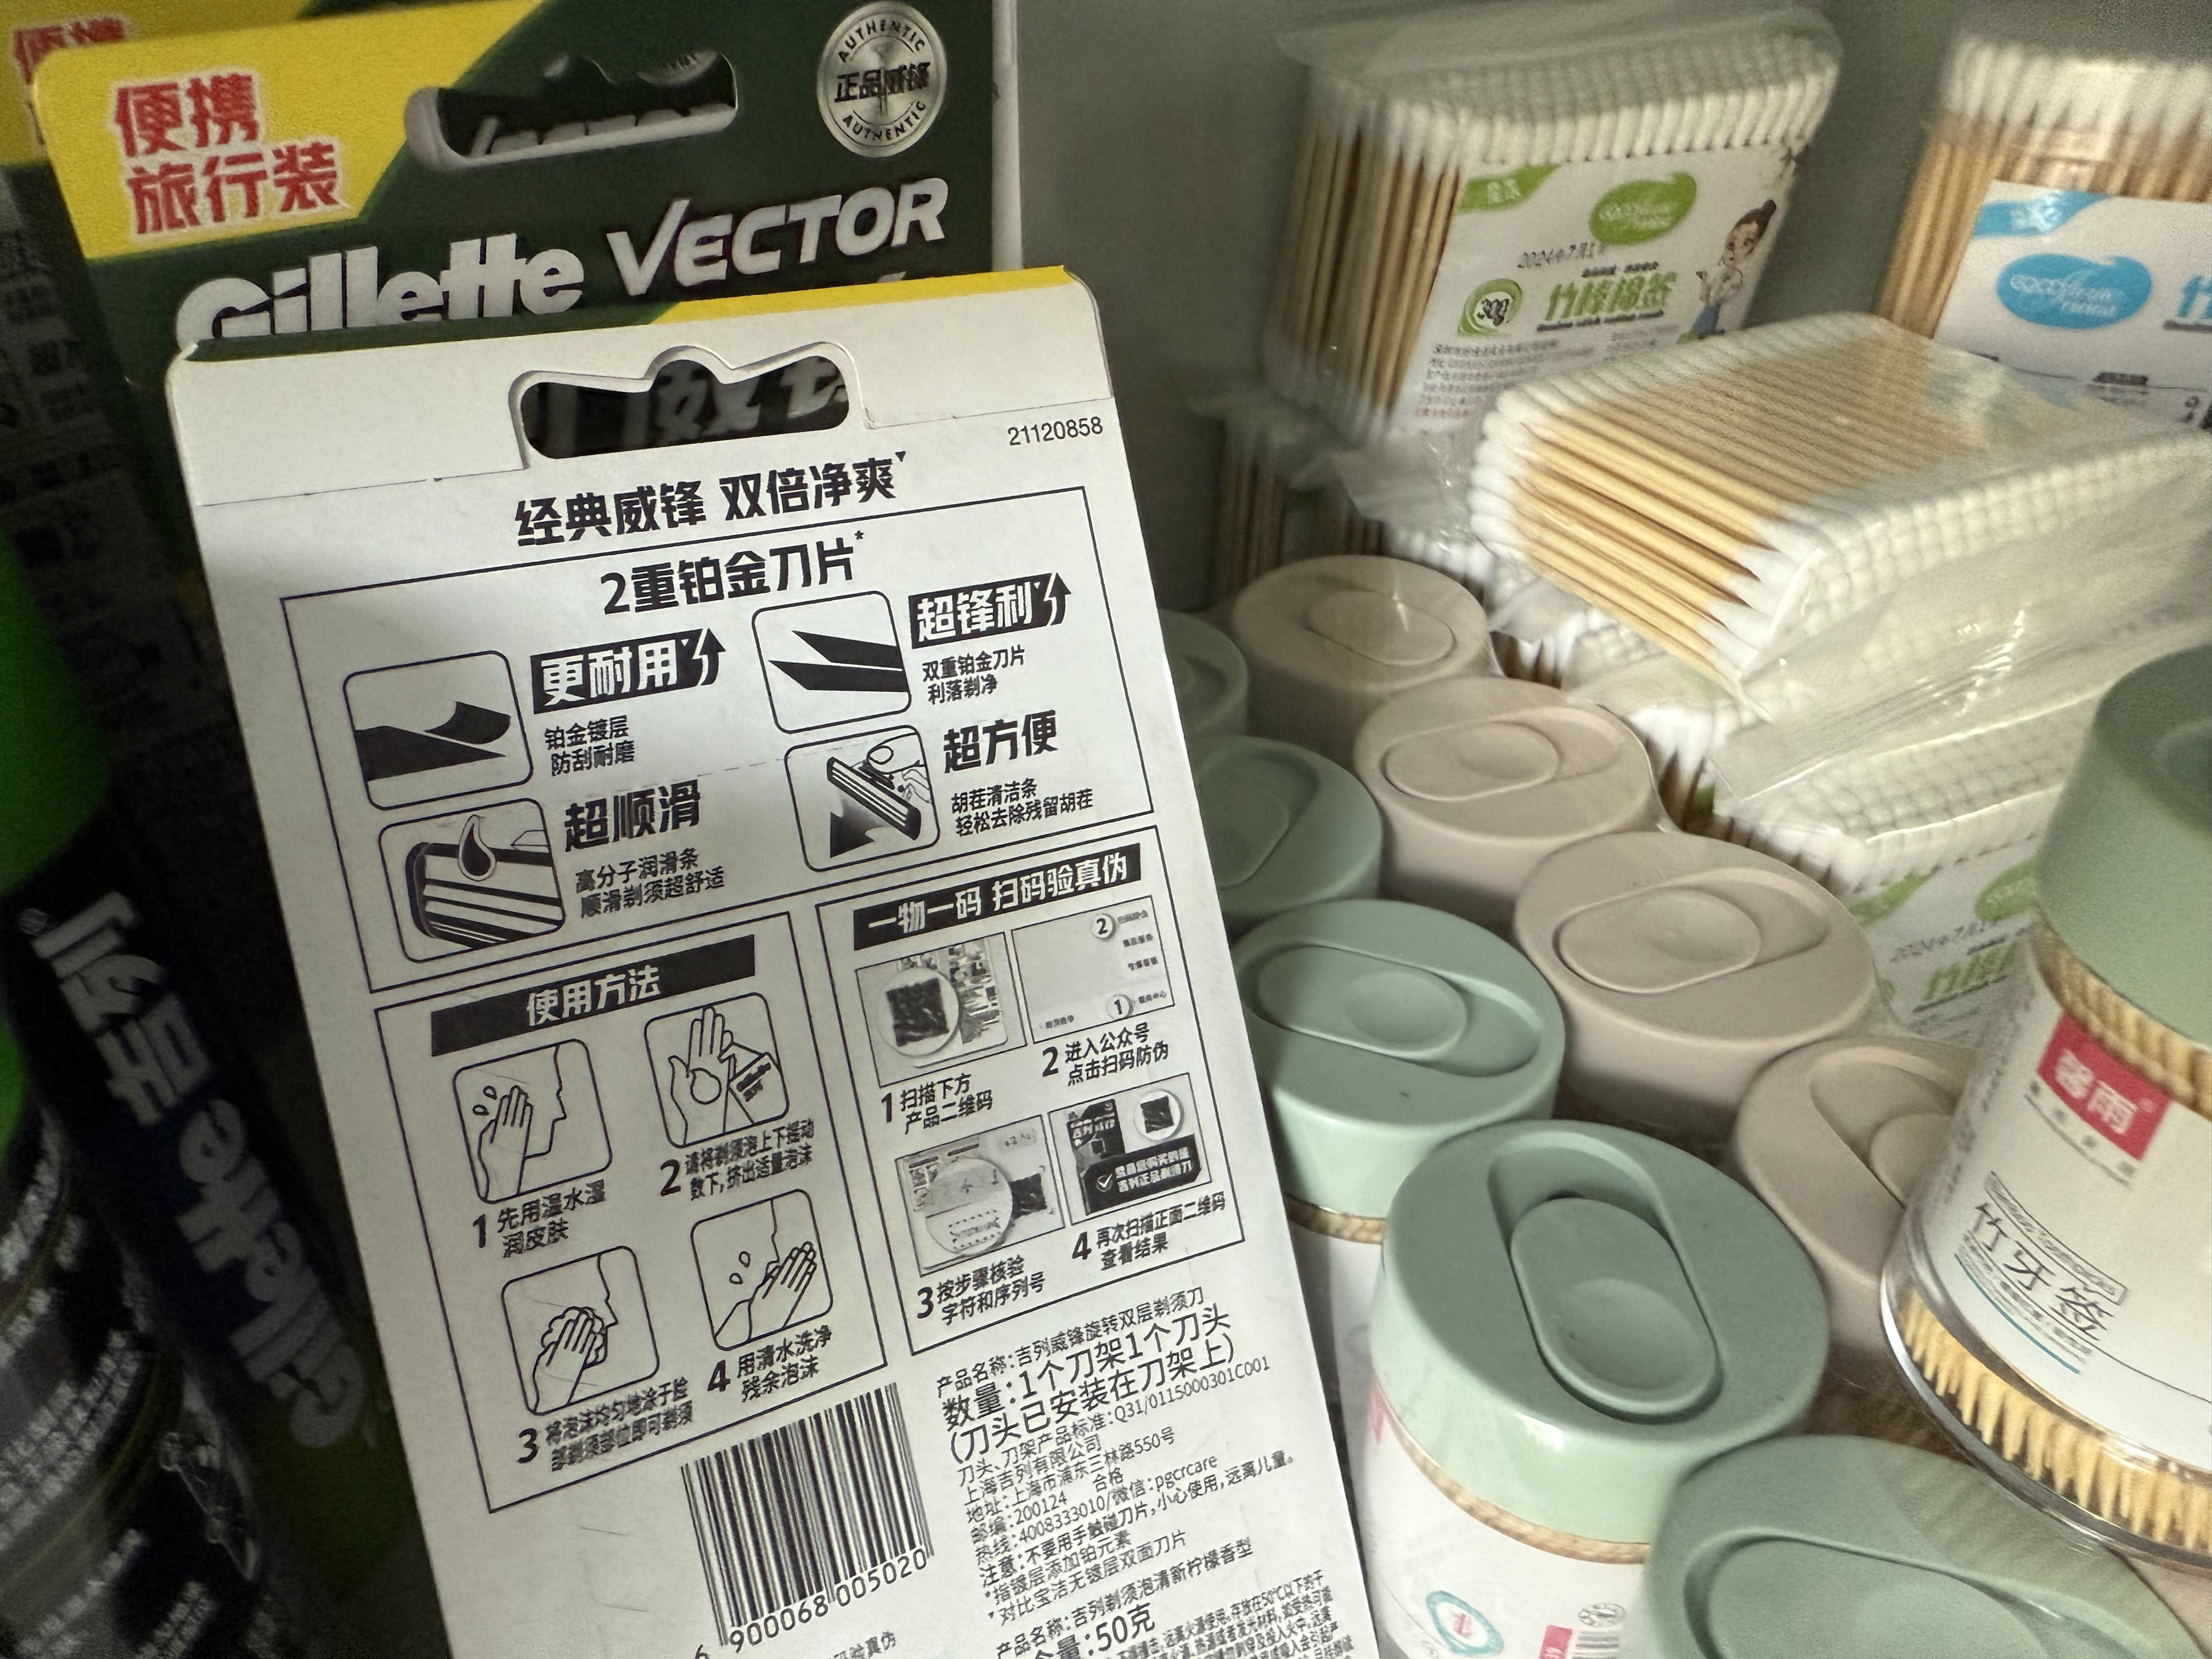bar: (676, 1378, 942, 1652)
